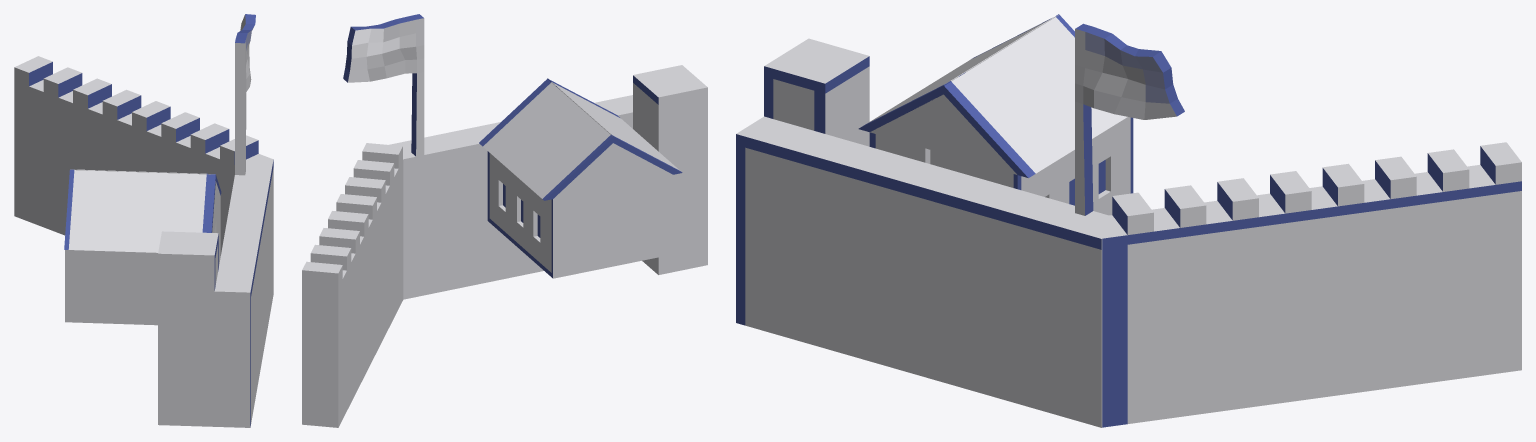
File: fort.gltf
3 renders of one model, left to right at view 1: azimuth 30°, elevation 25°; view 2: azimuth 150°, elevation 25°; view 3: azimuth 270°, elevation 25°, orthographic. The views are drawn at different scales.
Parts seen in each view (by area): view 1: Cube.005, Cube.006, Cube.033; view 2: Cube.005, Cube.033, Cube.006; view 3: Cube.005, Cube.006, Cube.033.
Boxes of the visible parts, <box> form: Cube.005: <box>158,14,273,427</box>; Cube.006: <box>14,56,271,255</box>; Cube.033: <box>64,169,221,325</box>; Cube.005: <box>343,14,707,299</box>; Cube.033: <box>479,78,682,278</box>; Cube.006: <box>302,143,405,427</box>; Cube.005: <box>736,23,1184,427</box>; Cube.006: <box>1095,142,1521,427</box>; Cube.033: <box>858,14,1133,215</box>.
Bounding box in the file's own units: 3.96 × 3.95 × 7.54.
